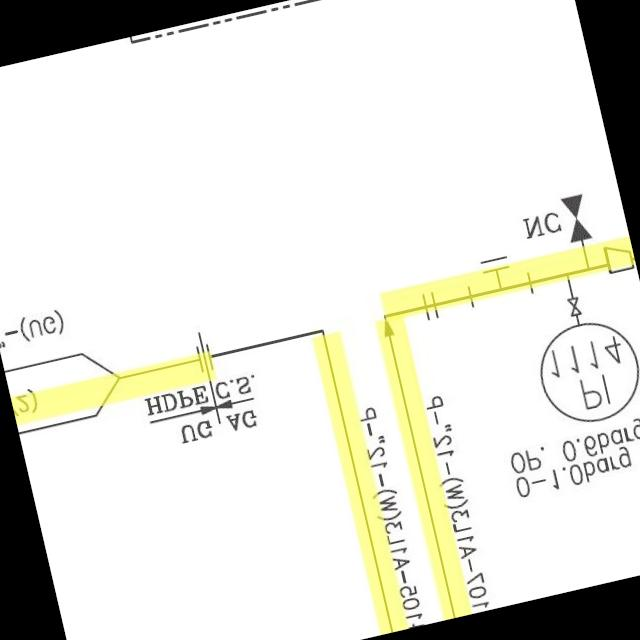GV: (560, 290, 588, 321)
SP: (596, 237, 637, 278)
